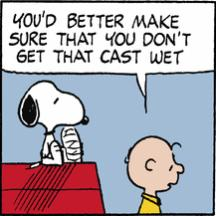charlie: (124, 134, 186, 216)
snoopy: (18, 78, 90, 172)
